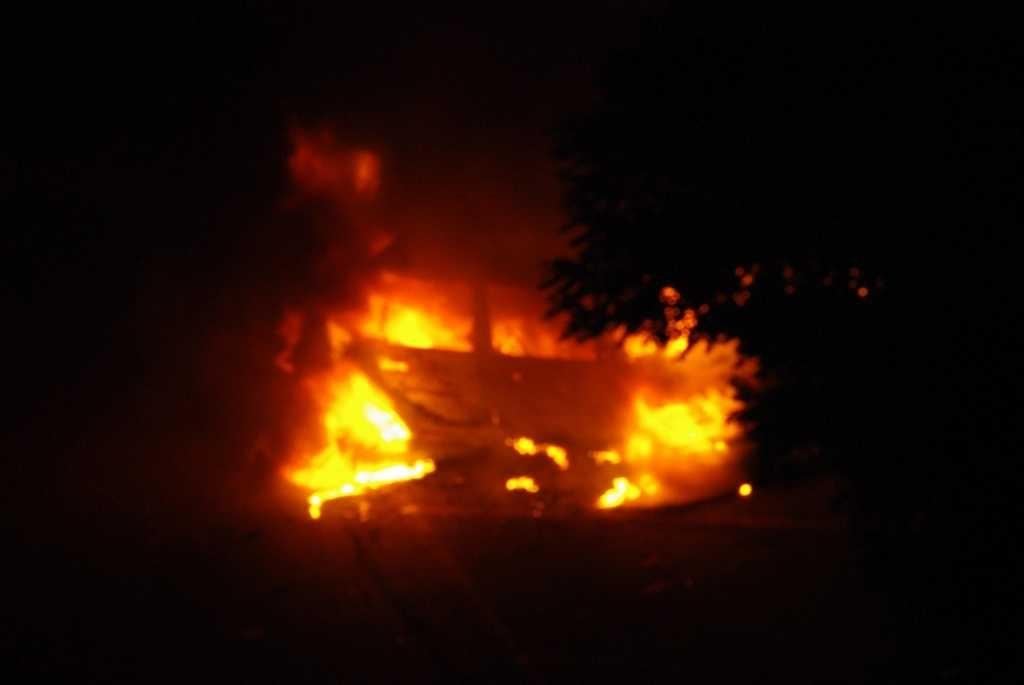fire: (636, 369, 742, 488), (307, 386, 404, 504), (365, 295, 480, 348)
